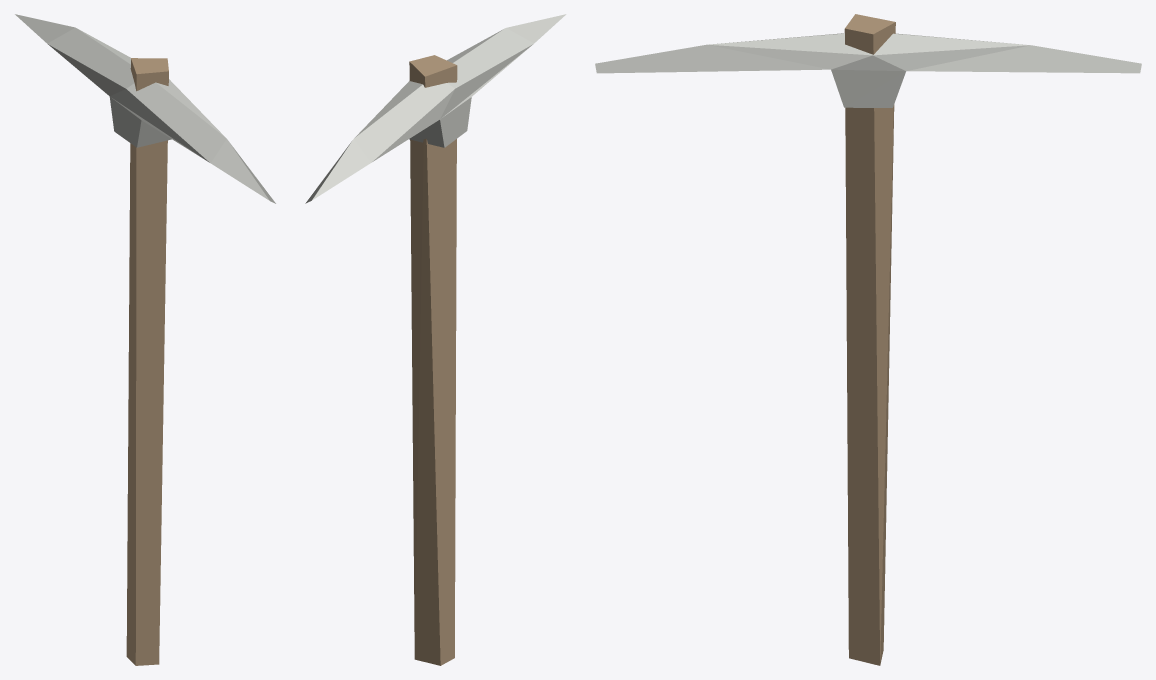
Rendered from StonePickaxe.glb.
3 views of the same model, side by side, from view 1: azimuth 30°, elevation 25°; view 2: azimuth 150°, elevation 25°; view 3: azimuth 270°, elevation 25° (orthographic). The views are drawn at different scales.
Parts seen in each view (by area): view 1: Cylinder.013, Cylinder.012; view 2: Cylinder.013, Cylinder.012; view 3: Cylinder.013, Cylinder.012.
Part boxes in pixels (box(x1,y1,x2,y2)): Cylinder.013: box(126, 58, 168, 665); Cylinder.012: box(15, 14, 275, 203); Cylinder.013: box(409, 55, 457, 665); Cylinder.012: box(305, 14, 566, 203); Cylinder.013: box(844, 14, 895, 665); Cylinder.012: box(595, 33, 1141, 107).
Size of the model in its own units: 0.0716 by 0.902 by 0.7029.
